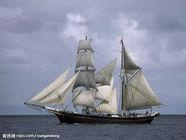fanchuan: (23, 31, 165, 126)
